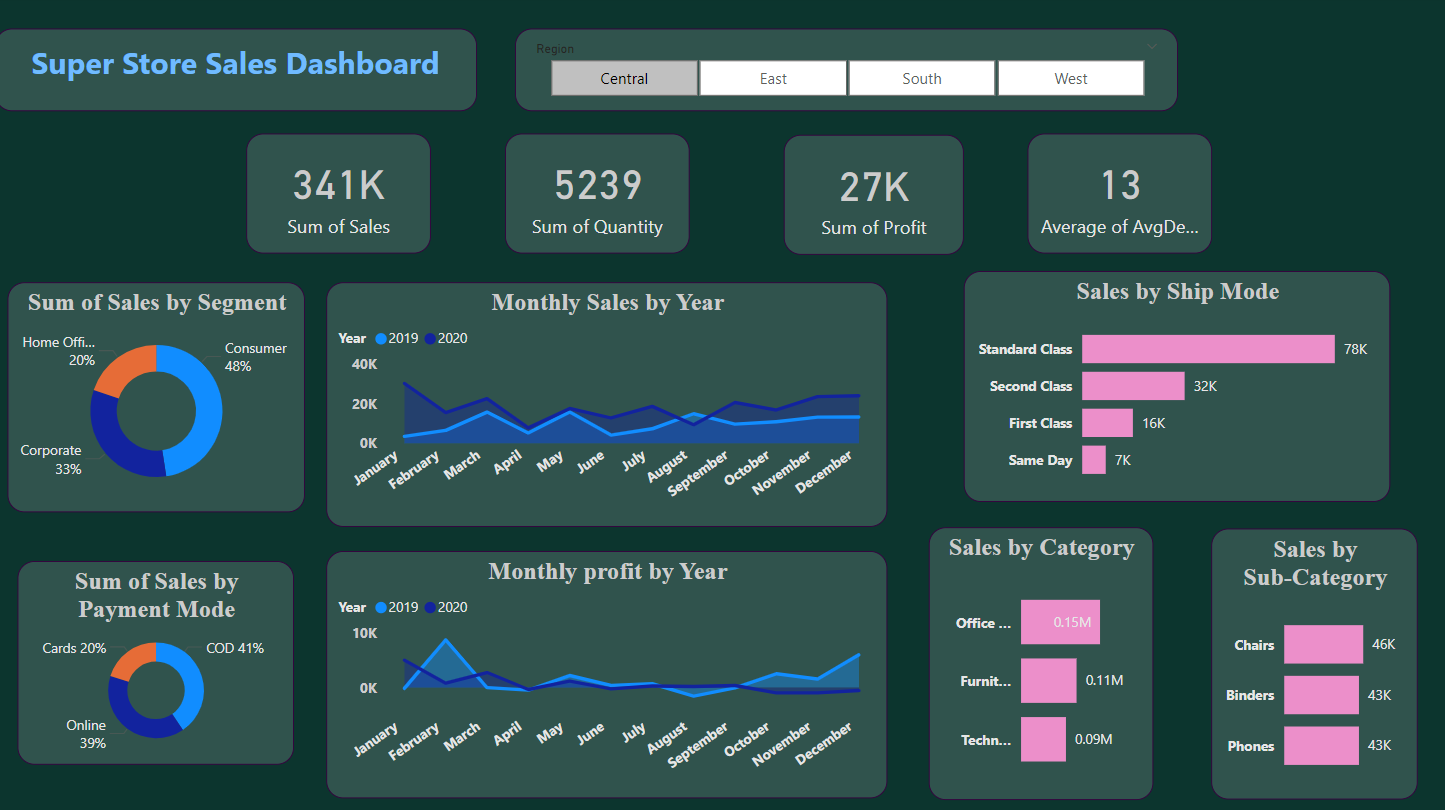

The page's visual inventory and layout, read from the dashboard file:
{"tool":"powerbi","page":{"name":"Page 1","canvas":[1280,720],"ordinal":0},"visuals":[{"type":"clusteredBarChart","title":" Sales by Category","fields":{"Category":["SuperStore_Sales_Dataset.Category"],"Y":["Sum(SuperStore_Sales_Dataset.Sales)"]},"box":[821.9,467.3,197.3,239.7],"z":0},{"type":"clusteredBarChart","title":" Sales by Sub-Category","fields":{"Category":["SuperStore_Sales_Dataset.Sub-Category"],"Y":["Sum(SuperStore_Sales_Dataset.Sales)"]},"box":[1070.1,468.5,181.6,238.5],"z":1000},{"type":"clusteredBarChart","title":" Sales by Ship Mode","fields":{"Category":["SuperStore_Sales_Dataset.Ship Mode"],"Y":["Sum(SuperStore_Sales_Dataset.Sales)"]},"box":[808.6,244.5,223.9,203.4],"z":2000},{"type":"areaChart","title":"Monthly Sales by Year","fields":{"Y":["Sum(SuperStore_Sales_Dataset.Sales)"],"Series":["SuperStore_Sales_Dataset.Order Date.Variation.Date Hierarchy.Year"],"Category":["SuperStore_Sales_Dataset.Order Date.Variation.Date Hierarchy.Month","SuperStore_Sales_Dataset.Order Date.Variation.Date Hierarchy.Day"]},"box":[291.7,251.8,493.9,215.5],"z":3000},{"type":"areaChart","title":"Monthly profit by Year","fields":{"Series":["SuperStore_Sales_Dataset.Order Date.Variation.Date Hierarchy.Year"],"Category":["SuperStore_Sales_Dataset.Order Date.Variation.Date Hierarchy.Month","SuperStore_Sales_Dataset.Order Date.Variation.Date Hierarchy.Day"],"Y":["Sum(SuperStore_Sales_Dataset.Profit)"]},"box":[291.7,487.8,493.9,217.9],"z":4000},{"type":"filledMap","fields":{"Category":["SuperStore_Sales_Dataset.State"]},"box":[1056.8,29.1,208.2,393.4],"z":5000},{"type":"donutChart","fields":{"Category":["SuperStore_Sales_Dataset.Segment"],"Y":["Sum(SuperStore_Sales_Dataset.Sales)"]},"box":[10.9,251.8,261.5,202.2],"z":6000},{"type":"donutChart","fields":{"Category":["SuperStore_Sales_Dataset.Payment Mode"],"Y":["Sum(SuperStore_Sales_Dataset.Sales)"]},"box":[19.4,497.5,243.3,179.2],"z":7000},{"type":"slicer","fields":{"Values":["SuperStore_Sales_Dataset.Region"]},"box":[457.6,29.1,583.5,72.6],"z":8000},{"type":"textbox","box":[0,29.1,423.7,72.6],"z":9000},{"type":"card","fields":{"Values":["Sum(SuperStore_Sales_Dataset.Sales)"]},"box":[221.5,121,162.2,105.3],"z":9001},{"type":"card","fields":{"Values":["Sum(SuperStore_Sales_Dataset.Quantity)"]},"box":[423.7,121,162.2,105.3],"z":9002},{"type":"card","fields":{"Values":["Sum(SuperStore_Sales_Dataset.Profit)"]},"box":[627,121,158.6,105.3],"z":9003},{"type":"card","fields":{"Values":["Avg(SuperStore_Sales_Dataset.AvgDelivery)"]},"box":[821.9,121,162.2,105.3],"z":9004}]}

Visuals, with their boxes in screenshot pixels (x1, y1, x2, y2), scaled from the page's 1280x720 canvas onto the 1445x810 screenshot:
" Sales by Category" clusteredBarChart: rect(928, 526, 1151, 795)
" Sales by Sub-Category" clusteredBarChart: rect(1208, 527, 1413, 795)
" Sales by Ship Mode" clusteredBarChart: rect(913, 275, 1166, 504)
"Monthly Sales by Year" areaChart: rect(329, 283, 887, 526)
"Monthly profit by Year" areaChart: rect(329, 549, 887, 794)
filledMap - SuperStore_Sales_Dataset.State: rect(1193, 33, 1428, 475)
donutChart - SuperStore_Sales_Dataset.Segment x Sum(SuperStore_Sales_Dataset.Sales): rect(12, 283, 308, 511)
donutChart - SuperStore_Sales_Dataset.Payment Mode x Sum(SuperStore_Sales_Dataset.Sales): rect(22, 560, 297, 761)
slicer - SuperStore_Sales_Dataset.Region: rect(517, 33, 1175, 114)
textbox: rect(0, 33, 478, 114)
card - Sum(SuperStore_Sales_Dataset.Sales): rect(250, 136, 433, 255)
card - Sum(SuperStore_Sales_Dataset.Quantity): rect(478, 136, 661, 255)
card - Sum(SuperStore_Sales_Dataset.Profit): rect(708, 136, 887, 255)
card - Avg(SuperStore_Sales_Dataset.AvgDelivery): rect(928, 136, 1111, 255)
